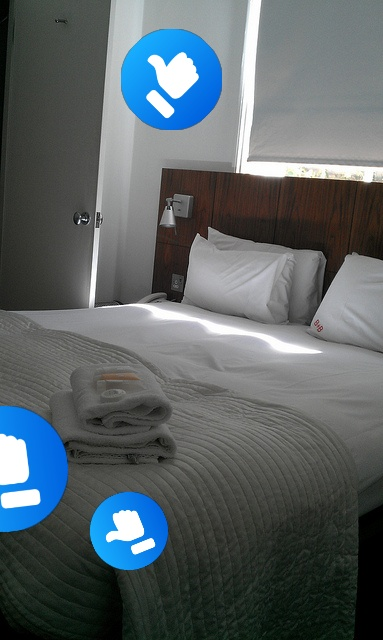like: (121, 29, 222, 130), (0, 406, 68, 532), (90, 492, 168, 570)
